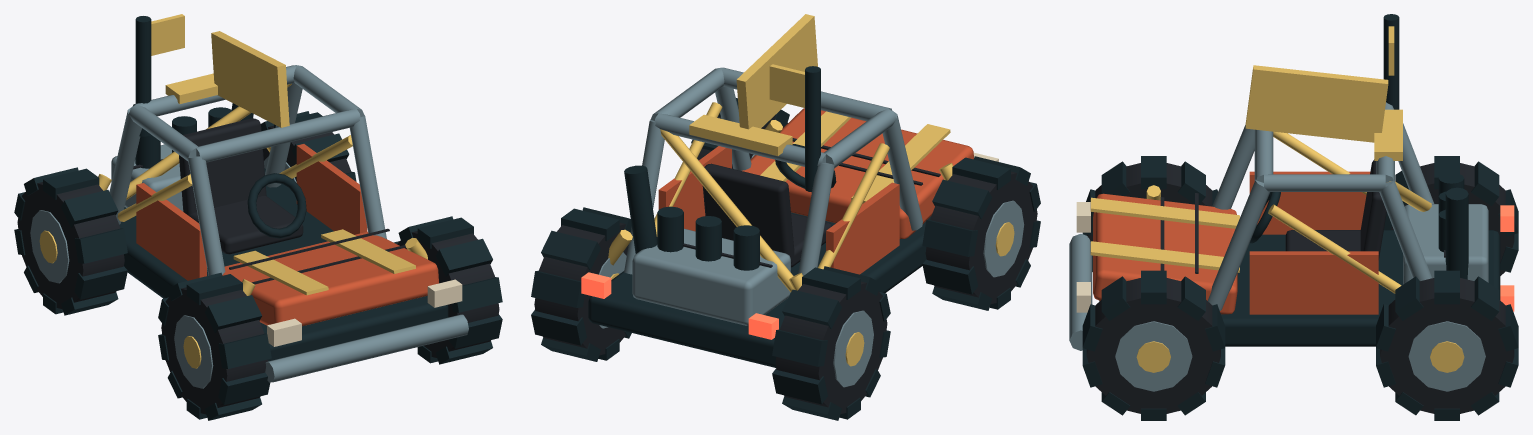
The model's file is row-six-rival-moss.glb.
3 renders of one model, left to right at view 1: azimuth 30°, elevation 25°; view 2: azimuth 150°, elevation 25°; view 3: azimuth 270°, elevation 25°, orthographic. The views are drawn at different scales.
Parts seen in each view (by area): view 1: row-six-rival-moss; view 2: row-six-rival-moss; view 3: row-six-rival-moss.
Part boxes in pixels (left/top/right/bottom): row-six-rival-moss: left=14, top=14, right=502, bottom=420; row-six-rival-moss: left=531, top=14, right=1040, bottom=420; row-six-rival-moss: left=1069, top=14, right=1518, bottom=420.
Bounding box in the file's own units: 2.28 × 2.31 × 3.14.
